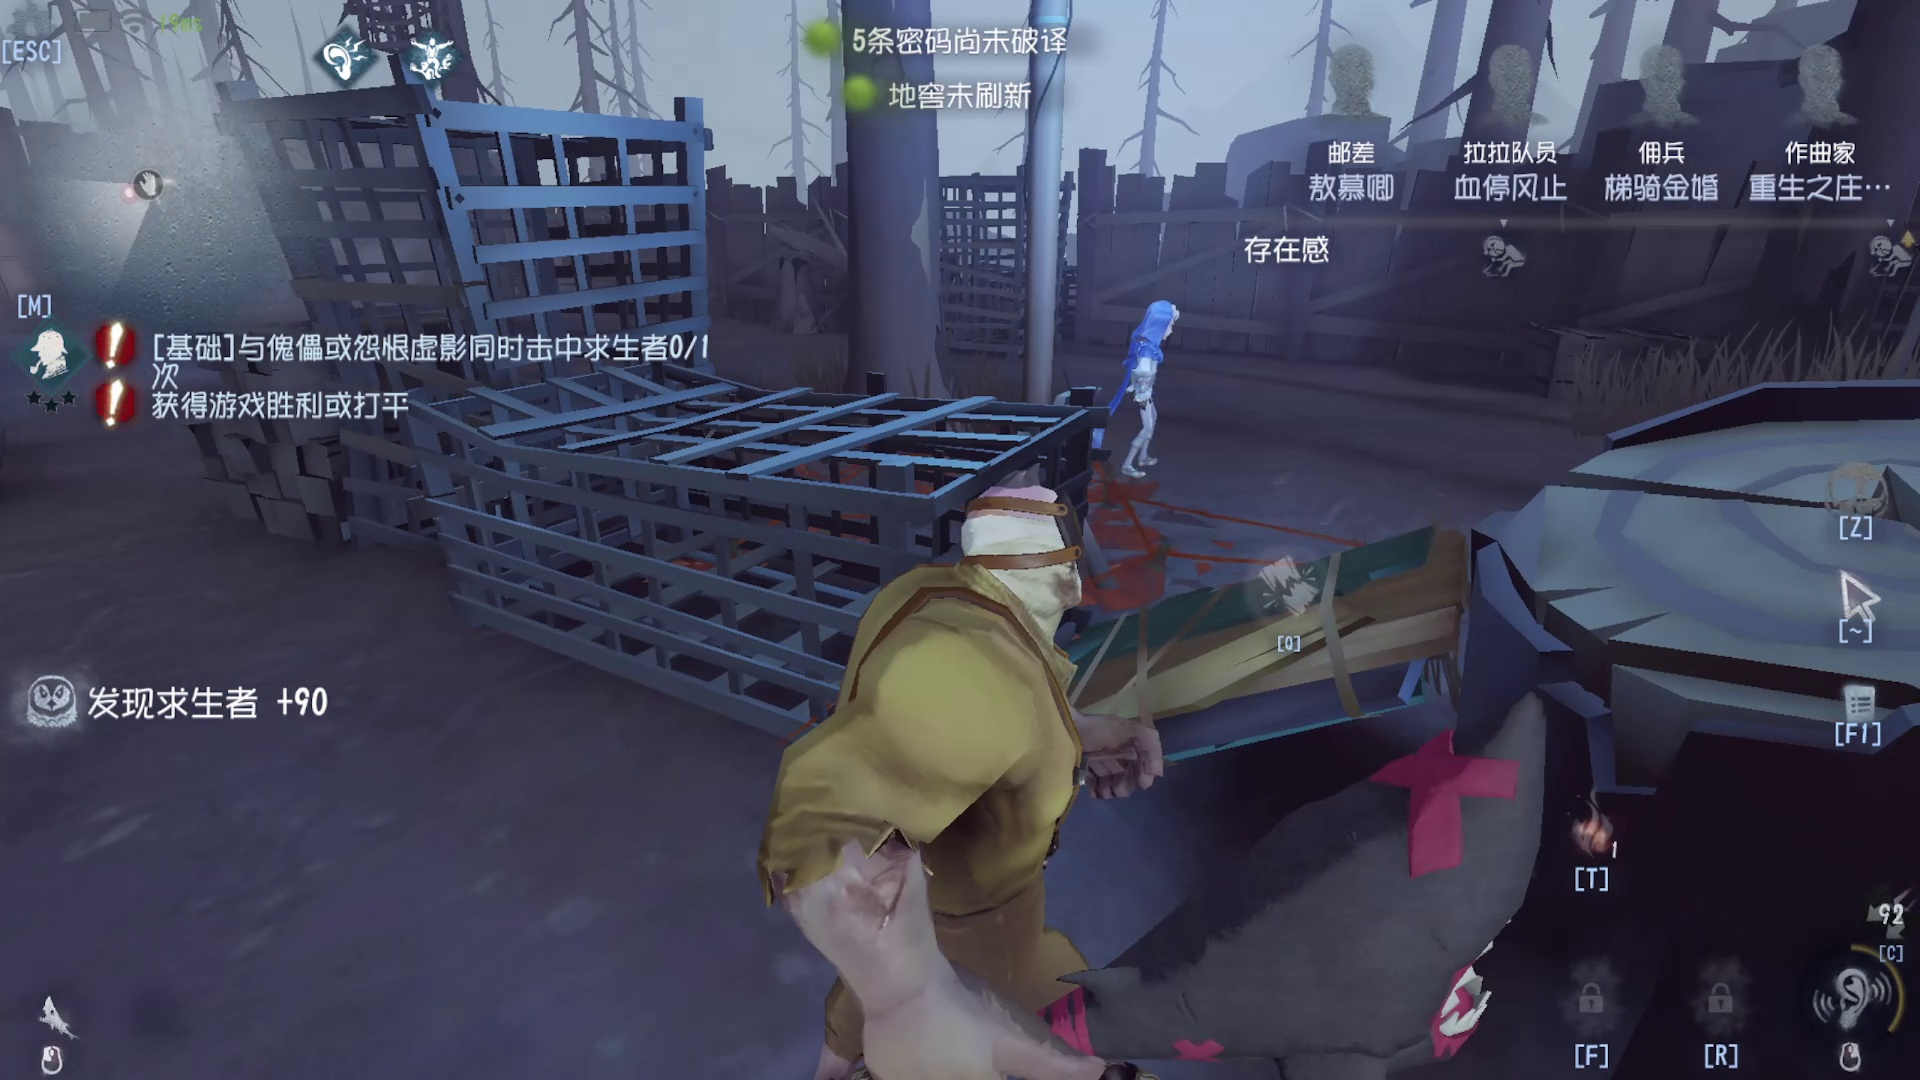木板: (1021, 562, 1501, 740)
求生者: (1106, 286, 1188, 460)
